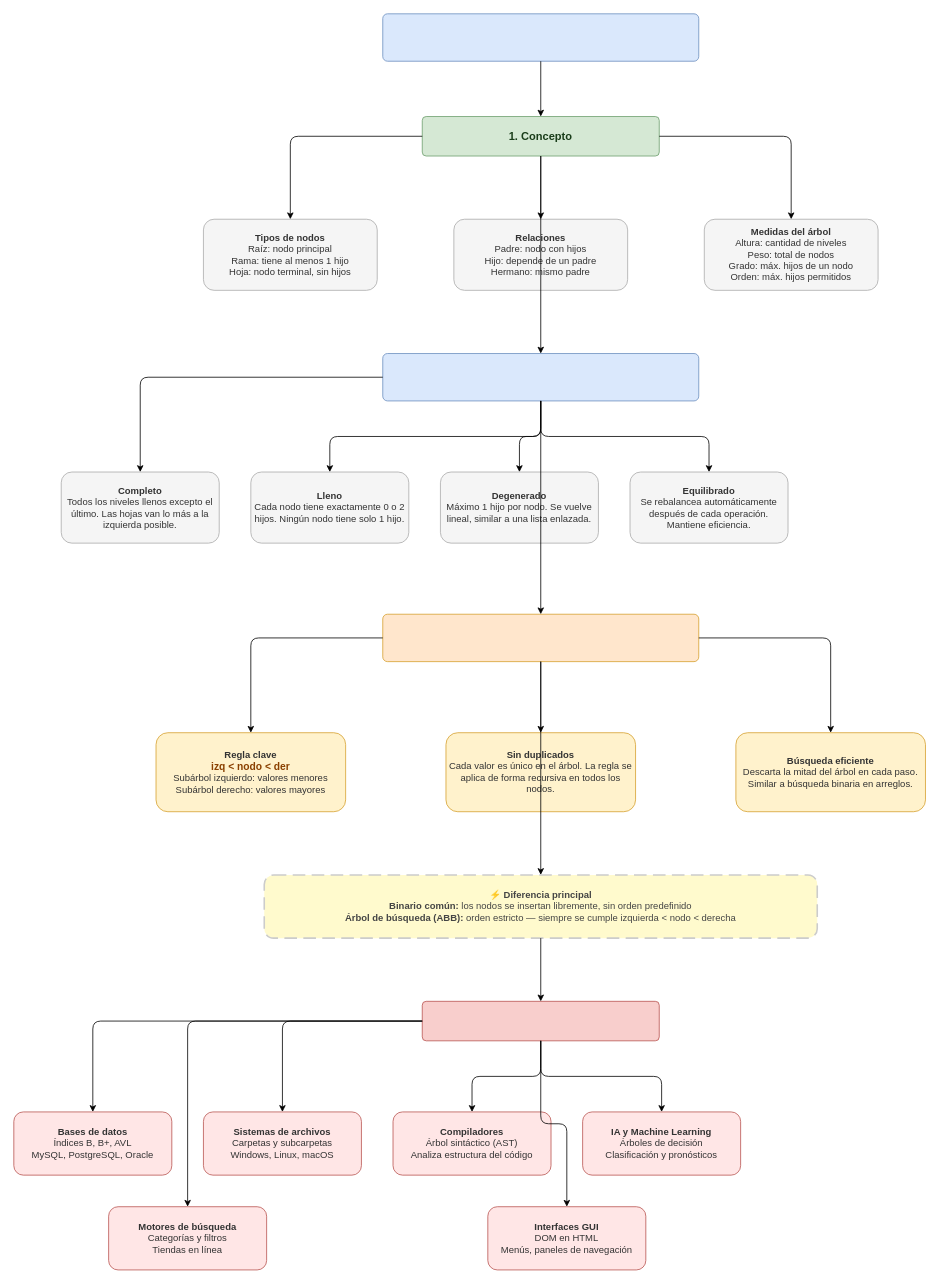
Some shapes in this 939 by 1284 pixel diagram are drawn without their labels. Each missing label, with the centre of its shape:
2. Árbol Binario Común Disposición libre — máximo 2 hijos por nodo: pixel 540 377
3. Árbol Binario de Búsqueda (ABB) Orden estricto para búsquedas eficientes: pixel 540 637
4. Aplicaciones Reales: pixel 540 1021
Árbol Binario Estructura jerárquica donde cada nodo tiene máximo 2 hijos: pixel 540 37
